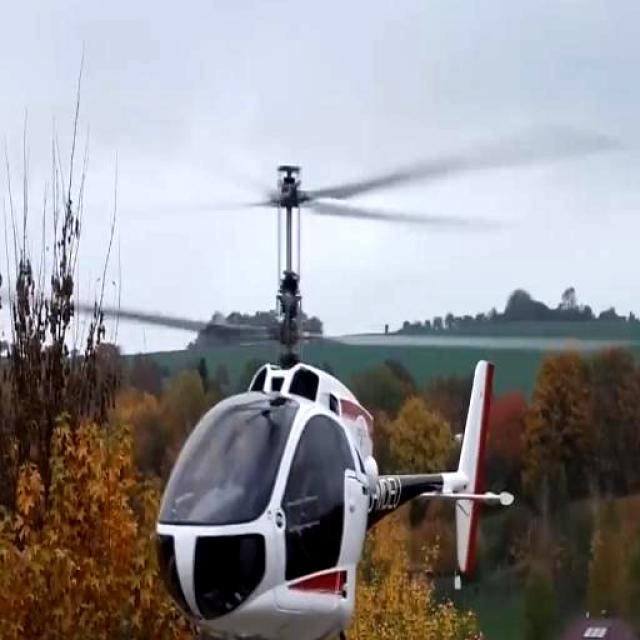drone: (0, 90, 640, 640)
